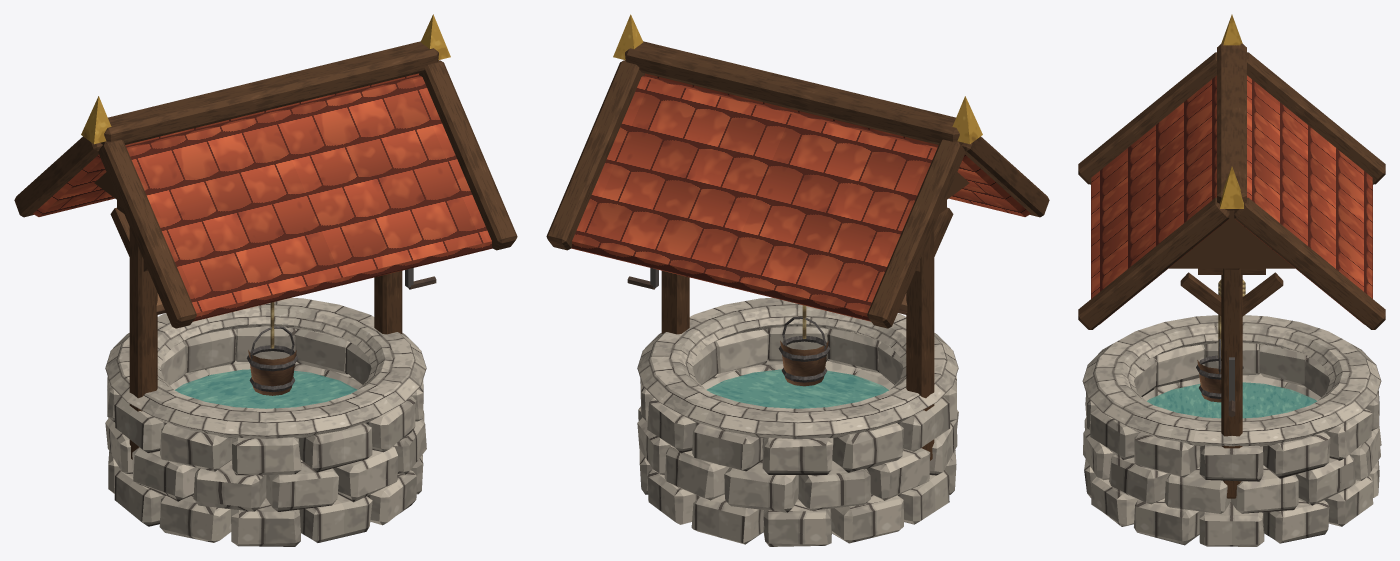
The model's file is stone_well.glb.
3 views of the same model, side by side, from view 1: azimuth 30°, elevation 25°; view 2: azimuth 150°, elevation 25°; view 3: azimuth 270°, elevation 25° (orthographic). The views are drawn at different scales.
Parts seen in each view (by area): view 1: stone_well_roof, stone_well_stone_ring, stone_well_posts, stone_well_water_surface, stone_well_rope_bucket; view 2: stone_well_roof, stone_well_stone_ring, stone_well_posts, stone_well_water_surface, stone_well_rope_bucket; view 3: stone_well_roof, stone_well_stone_ring, stone_well_posts, stone_well_water_surface, stone_well_rope_bucket, stone_well_windlass.
Boxes of the visible parts, x1,y1,x2,y2 form: stone_well_roof: (14,14,517,328); stone_well_stone_ring: (105,297,426,546); stone_well_posts: (110,200,402,459); stone_well_water_surface: (175,369,357,408); stone_well_rope_bucket: (246,302,297,395); stone_well_roof: (546,14,1049,328); stone_well_stone_ring: (637,297,958,546); stone_well_posts: (661,200,953,460); stone_well_water_surface: (706,369,888,408); stone_well_rope_bucket: (778,305,830,386); stone_well_roof: (1078,14,1385,329); stone_well_stone_ring: (1082,315,1381,546); stone_well_posts: (1180,268,1283,498); stone_well_water_surface: (1147,382,1316,418); stone_well_rope_bucket: (1196,314,1243,402); stone_well_windlass: (1218,279,1245,416).
Size of what is drawn, in the model's own units: 2.54 by 2.92 by 2.04.
Materials: 10 (10 with a texture image).
